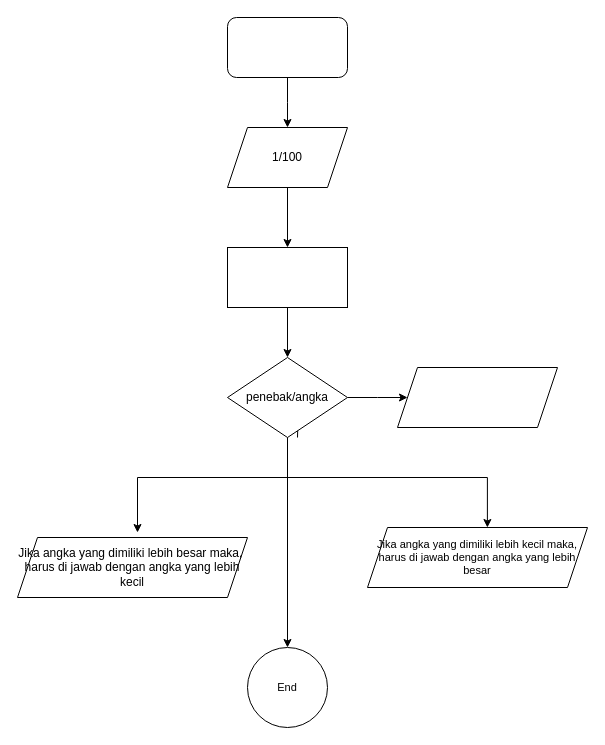
Some shapes in this 605 by 745 pixel diagram are drawn without their labels. The box of each missing label's shape, as (x1, y1, x2, y2) in pixels:
jawaban benar: (396, 366, 558, 428)
proses: (226, 246, 348, 308)
Star: (226, 16, 348, 78)
